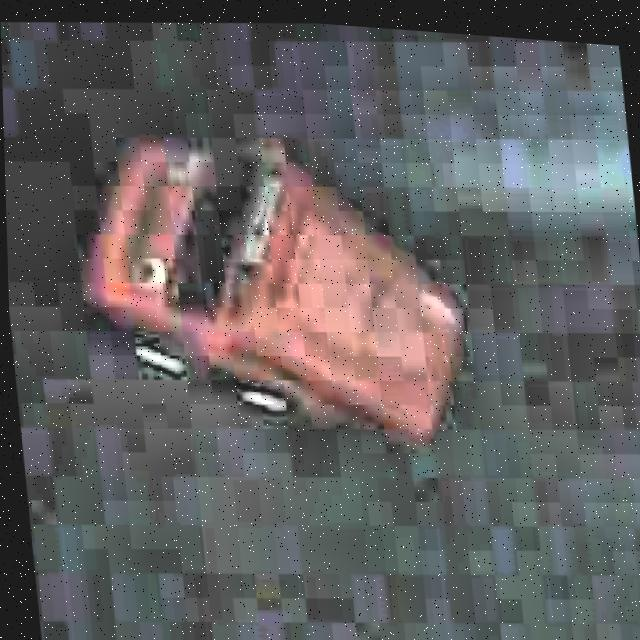bus: (42, 94, 512, 496)
